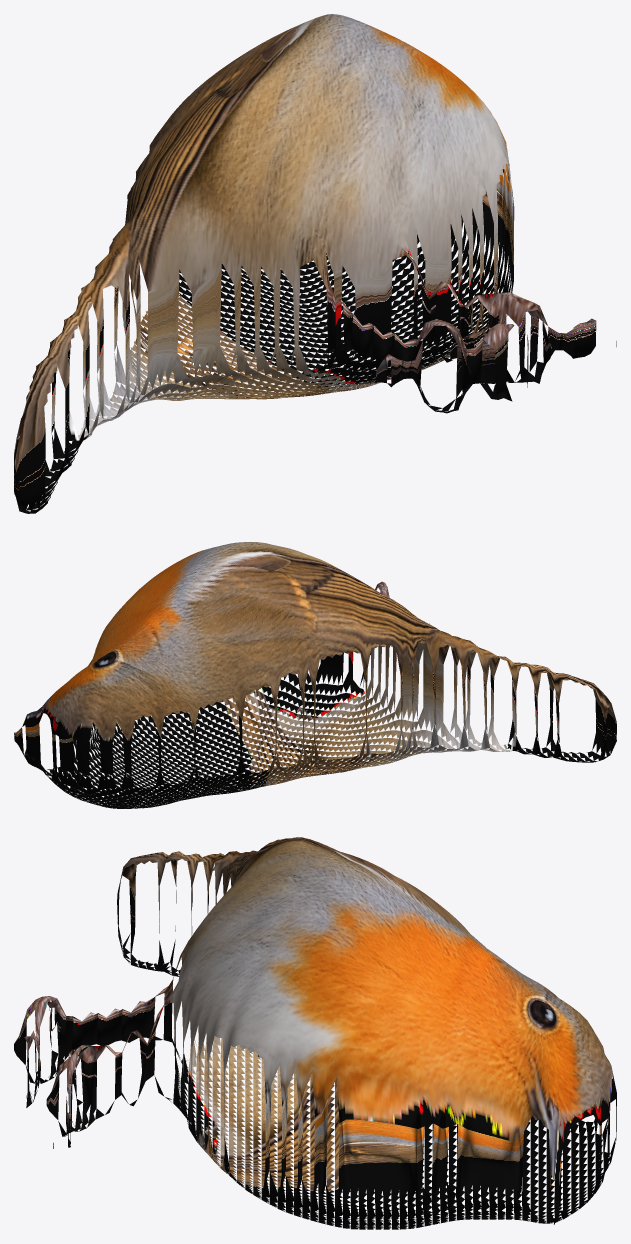
File: robin.glb
3 renders of one model, top to bottom at view 1: azimuth 30°, elevation 25°; view 2: azimuth 150°, elevation 25°; view 3: azimuth 270°, elevation 25°, orthographic. The views are drawn at different scales.
Visible parts, largest first — view 1: robin_obj; view 2: robin_obj; view 3: robin_obj.
Part boxes in pixels (bbox=[...]): robin_obj: bbox=[14, 14, 616, 513]; robin_obj: bbox=[14, 542, 616, 808]; robin_obj: bbox=[14, 837, 616, 1229].
Bounding box in the file's own units: 1.79 × 0.9496 × 1.54.
Materials: 1 (1 with a texture image).
